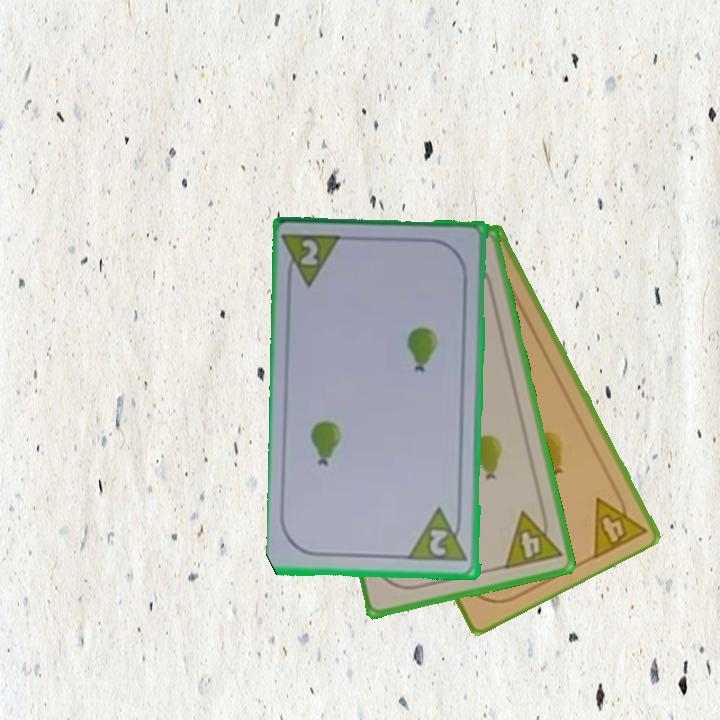2p: (281, 230, 347, 292), (426, 526, 451, 559)
4p: (589, 482, 649, 562), (500, 503, 565, 572)
